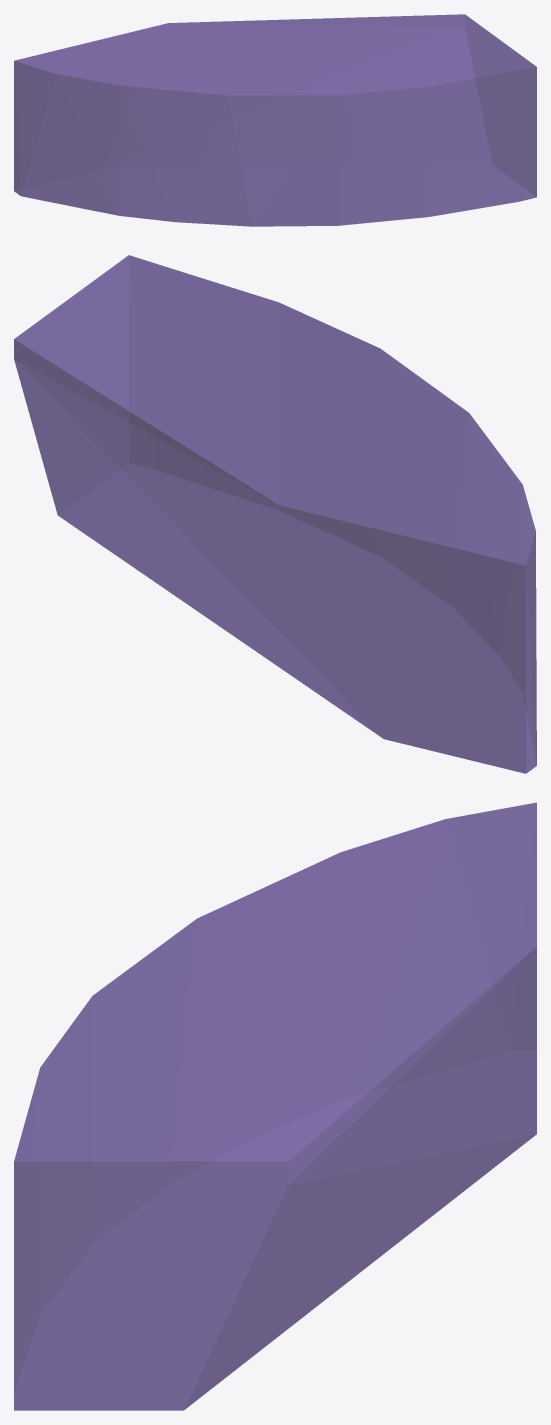
The picture shows the model from 3 angles, top to bottom: view 1: azimuth 30°, elevation 25°; view 2: azimuth 150°, elevation 25°; view 3: azimuth 270°, elevation 25°; orthographic projection. The views are drawn at different scales.
Visible parts, largest first — view 1: Shape_IndexedFaceSet.012_Shape_IndexedFaceSet.17587; view 2: Shape_IndexedFaceSet.012_Shape_IndexedFaceSet.17587; view 3: Shape_IndexedFaceSet.012_Shape_IndexedFaceSet.17587.
Part boxes in pixels (bbox=[...]): Shape_IndexedFaceSet.012_Shape_IndexedFaceSet.17587: bbox=[14, 14, 536, 226]; Shape_IndexedFaceSet.012_Shape_IndexedFaceSet.17587: bbox=[14, 255, 536, 773]; Shape_IndexedFaceSet.012_Shape_IndexedFaceSet.17587: bbox=[14, 802, 536, 1410].
Size of the model in its own units: 0.1145 by 0.037 by 0.0705.
